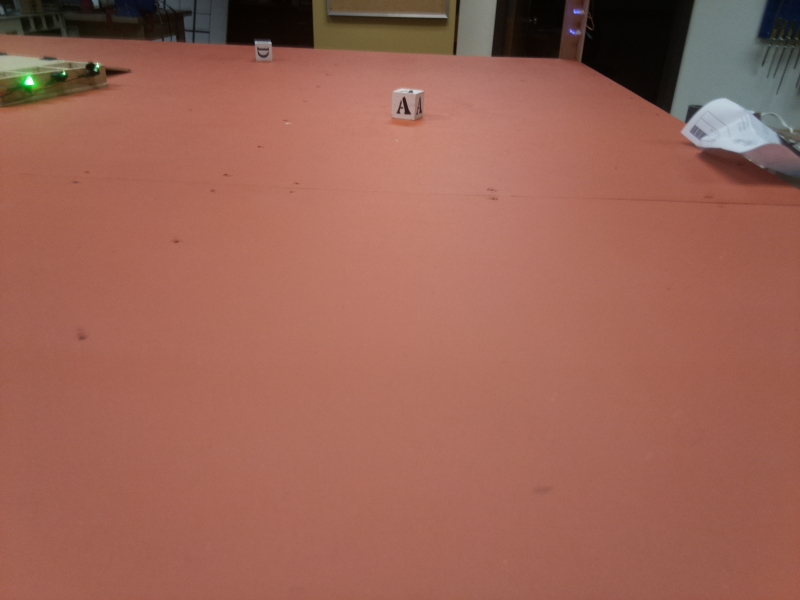blockA: (390, 86, 426, 126)
blockD: (253, 41, 271, 63)
corner: (557, 1, 592, 66)
side: (3, 58, 107, 103)
slope: (107, 62, 137, 82)
